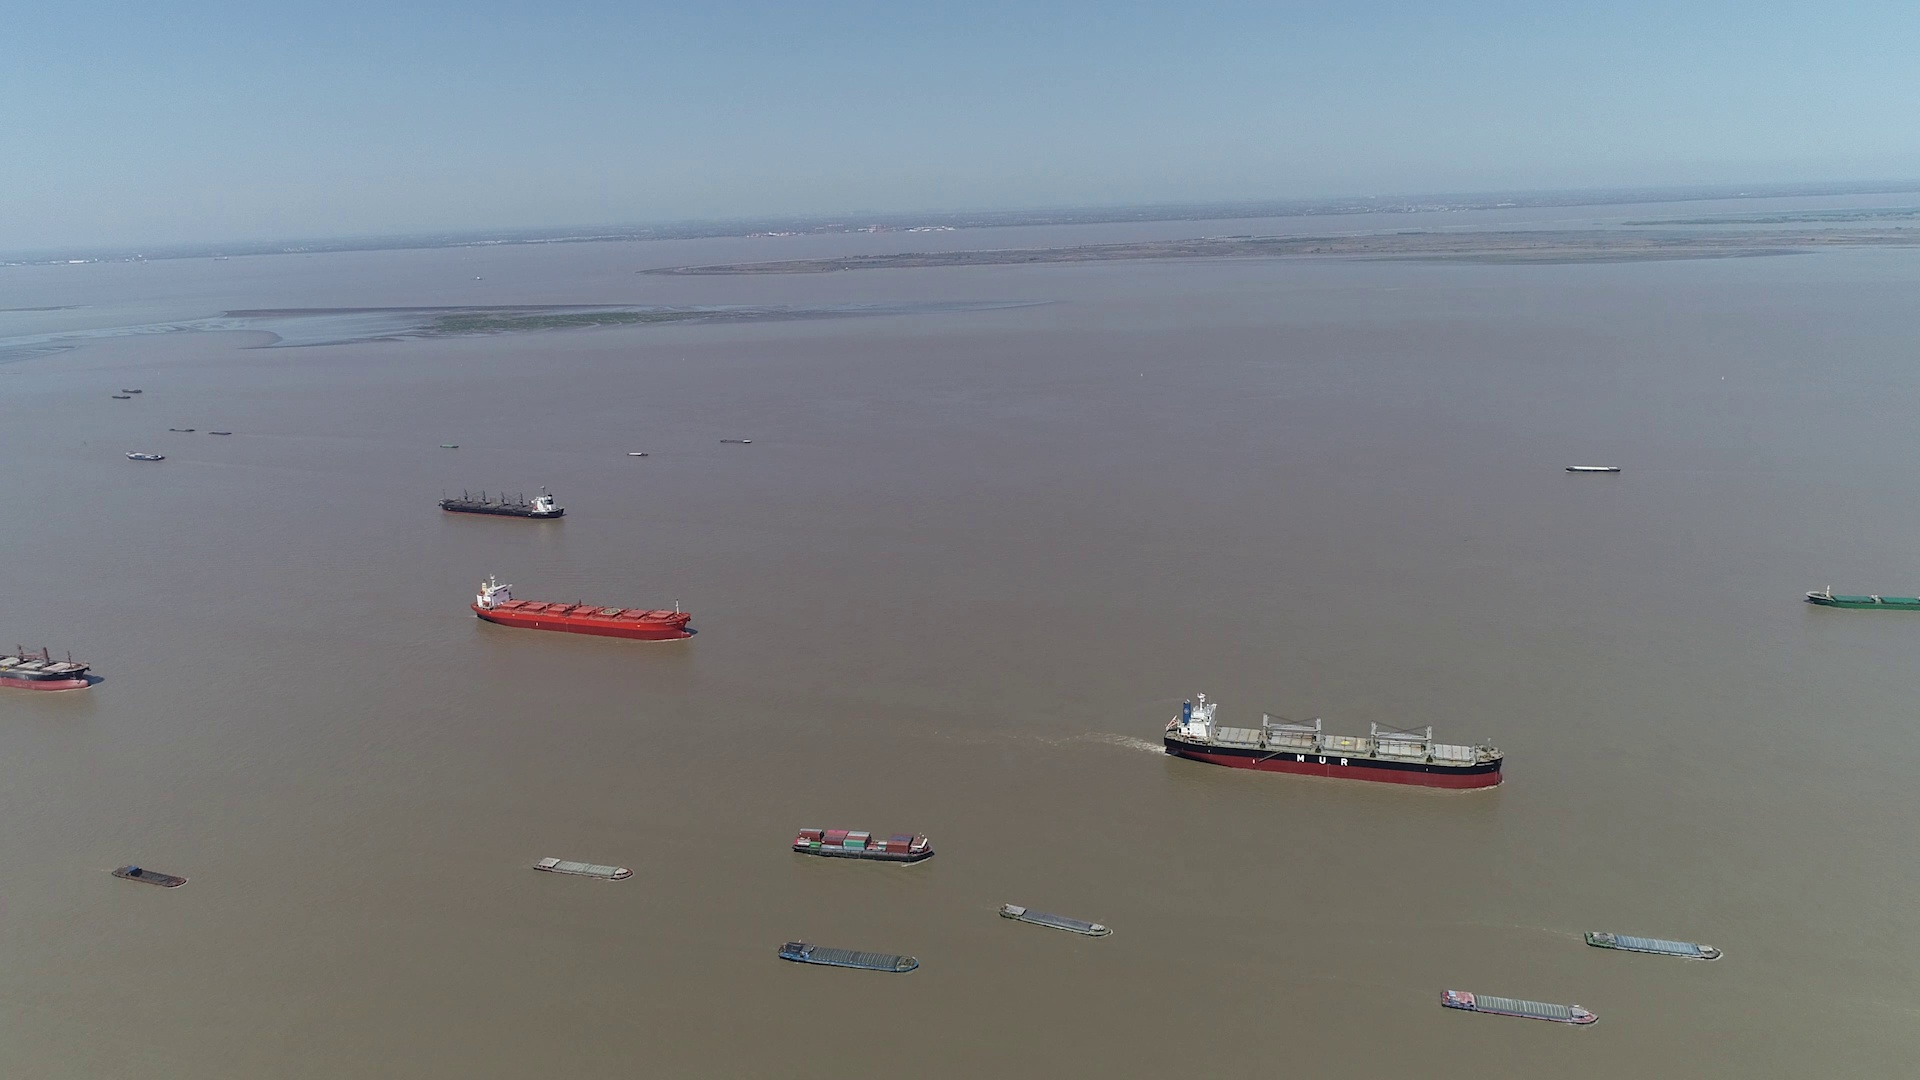ship: (1164, 692, 1506, 787), (473, 572, 690, 640), (0, 632, 98, 694), (1440, 988, 1600, 1025), (793, 825, 936, 864), (778, 938, 920, 975), (1582, 928, 1720, 963), (998, 901, 1113, 940), (436, 487, 564, 520), (531, 855, 636, 881), (1804, 587, 1919, 611), (112, 864, 183, 887), (127, 448, 167, 462), (1564, 464, 1618, 473)
